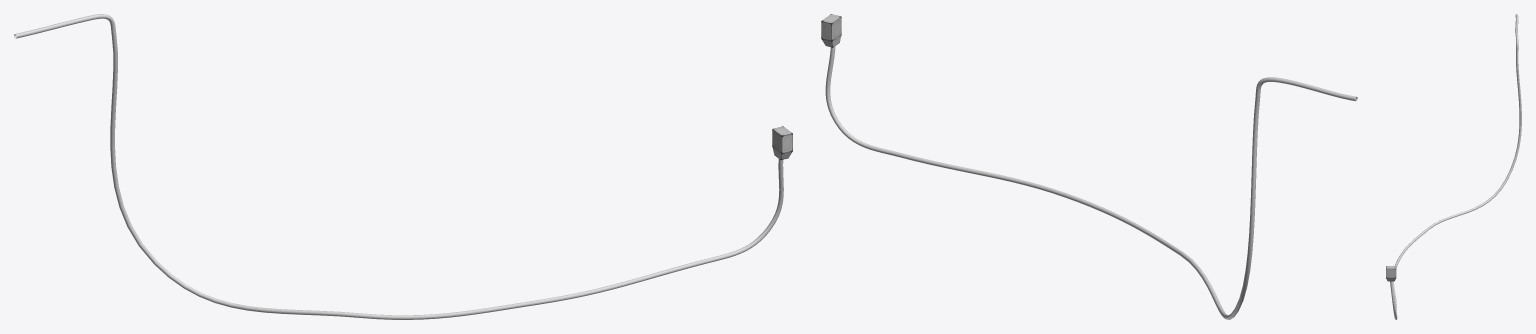
The model's file is wire_radio_livingroom.fbx.
3 views of the same model, side by side, from view 1: azimuth 30°, elevation 25°; view 2: azimuth 150°, elevation 25°; view 3: azimuth 270°, elevation 25° (orthographic). The views are drawn at different scales.
Visible parts, largest first — view 1: wire_radio_livingroom.001, wire_radio_livingroom; view 2: wire_radio_livingroom.001, wire_radio_livingroom; view 3: wire_radio_livingroom.001, wire_radio_livingroom.
Boxes of the visible parts, bbox=[...] form: wire_radio_livingroom.001: bbox=[14, 14, 783, 319]; wire_radio_livingroom: bbox=[772, 126, 792, 159]; wire_radio_livingroom.001: bbox=[825, 46, 1357, 319]; wire_radio_livingroom: bbox=[821, 14, 841, 47]; wire_radio_livingroom.001: bbox=[1390, 14, 1521, 319]; wire_radio_livingroom: bbox=[1386, 266, 1396, 281].
Bounding box in the file's own units: 3.19 × 1.34 × 1.1.
Materials: 1 (1 with a texture image).
